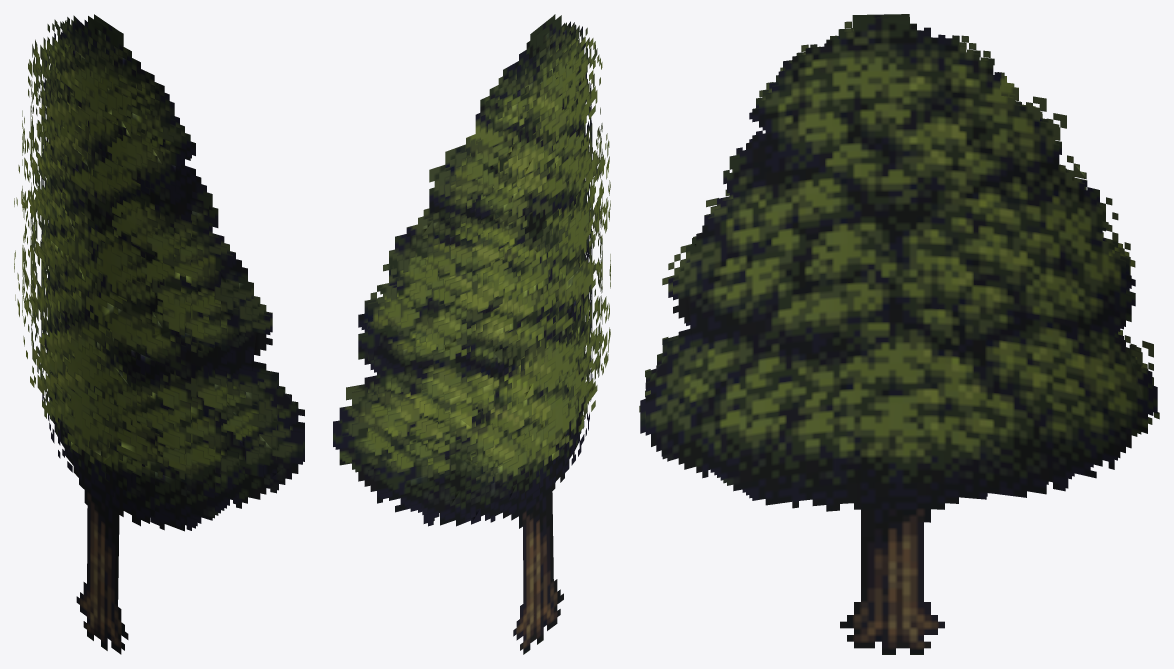
File: ObjMD_Tree_Plain_A.FBX
3 renders of one model, left to right at view 1: azimuth 30°, elevation 25°; view 2: azimuth 150°, elevation 25°; view 3: azimuth 270°, elevation 25°, orthographic. The views are drawn at different scales.
Visible parts, largest first — view 1: ObjMD_Tree_Plain_A; view 2: ObjMD_Tree_Plain_A; view 3: ObjMD_Tree_Plain_A.
Part boxes in pixels (<box>): ObjMD_Tree_Plain_A: <box>14,14,304,654</box>; ObjMD_Tree_Plain_A: <box>333,14,610,654</box>; ObjMD_Tree_Plain_A: <box>639,14,1159,654</box>.
Size of the model in its own units: 111 by 600 by 444.
